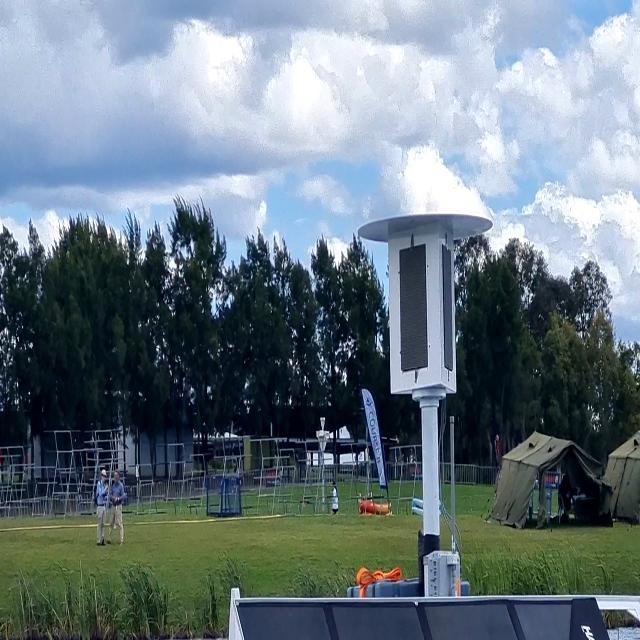led: (391, 241, 436, 379)
